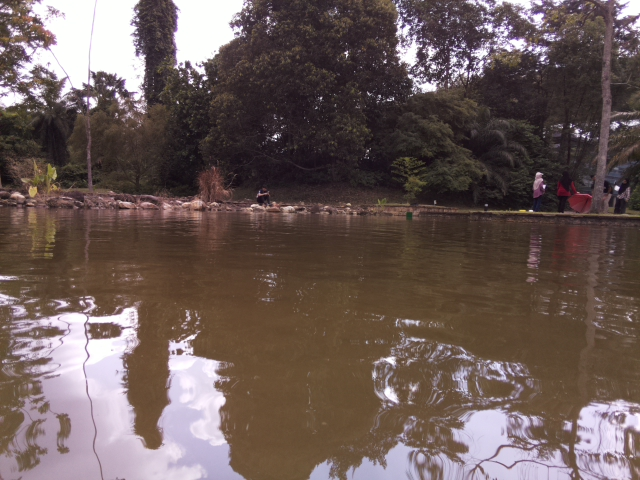obstacle: (405, 211, 413, 218)
